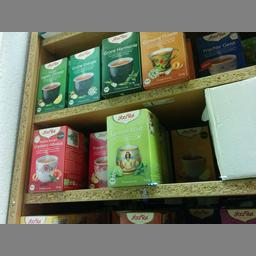tea: (105, 106, 166, 184), (26, 123, 82, 192), (100, 32, 140, 89), (66, 46, 100, 102), (33, 56, 65, 112)
